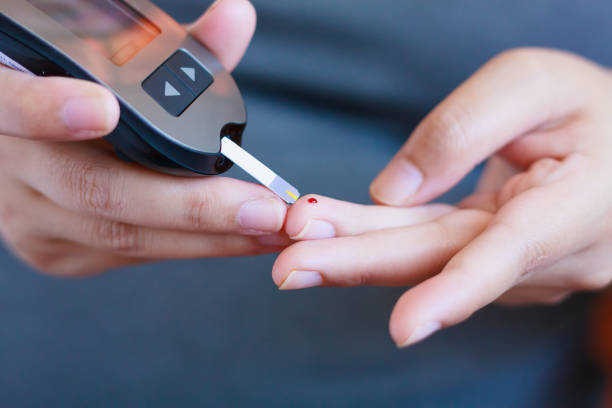blood: (307, 198, 319, 206)
